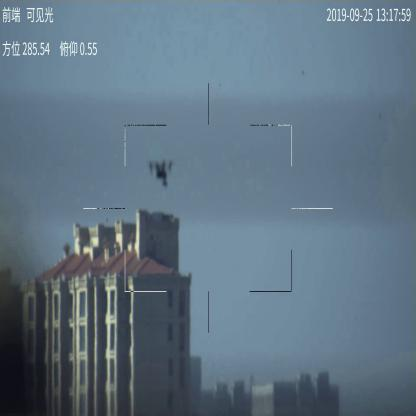uav: (147, 156, 173, 187)
